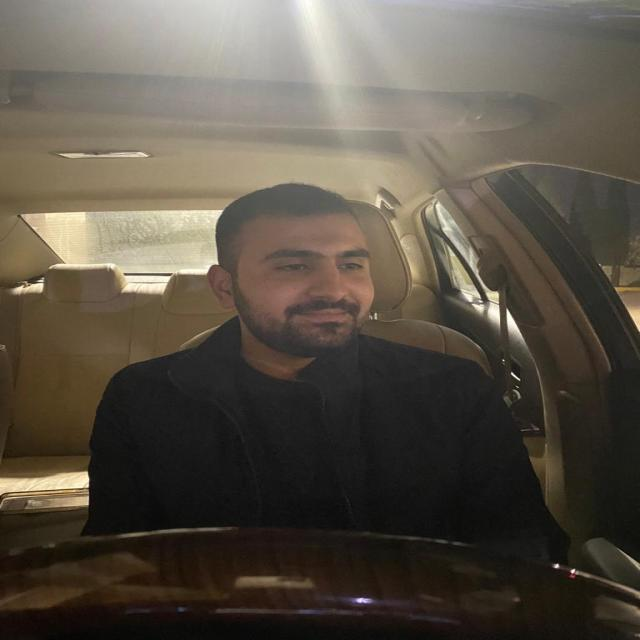person: (213, 188, 388, 345)
